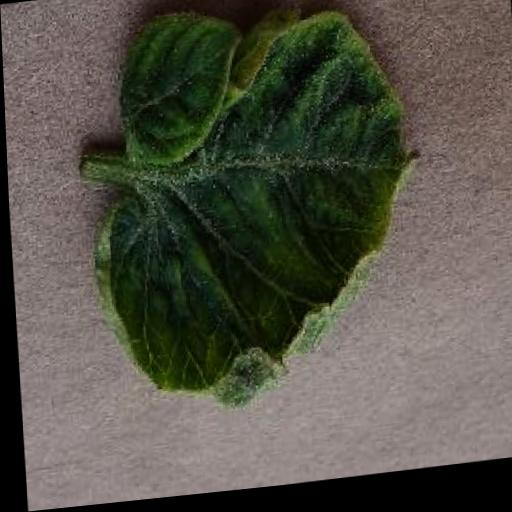Yellow Leaf Curl Virus: (76, 6, 437, 428), (110, 3, 255, 173)
